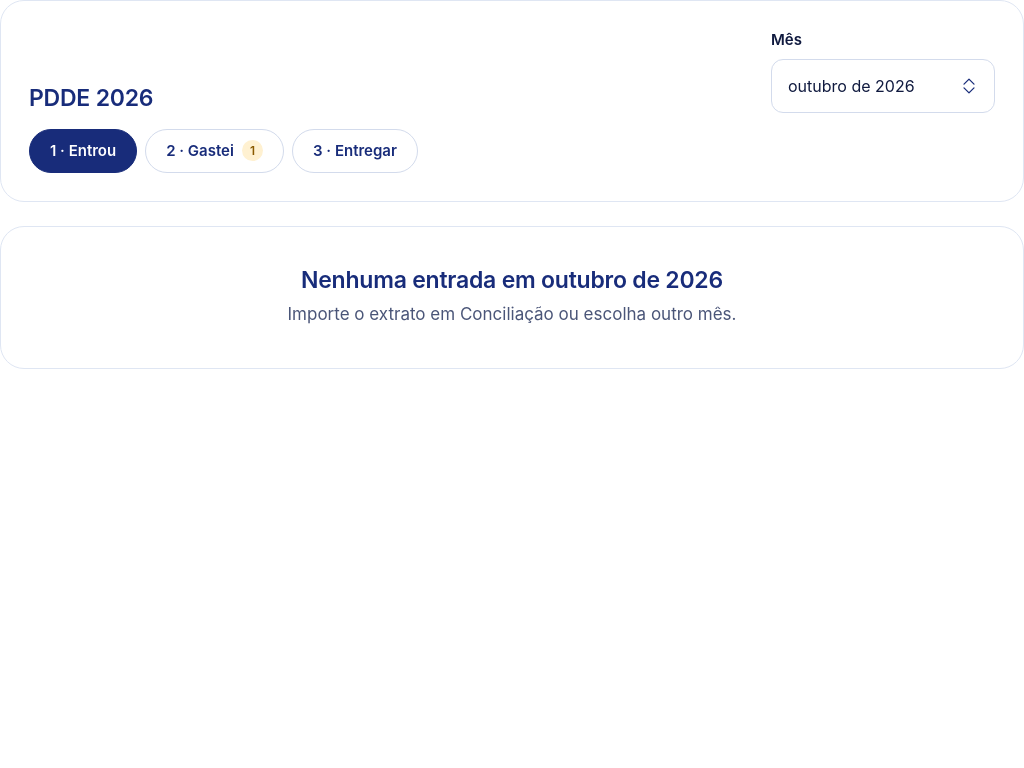
Test: PddeArea: a saida que paga uma despesa › sem natureza na categoria, nao confirma sozinho: o modal traz o item da despesa
This screenshot has width=1024, height=768.
Click the tab "2 · Gastei 1": (215, 151) [145,129,284,173]
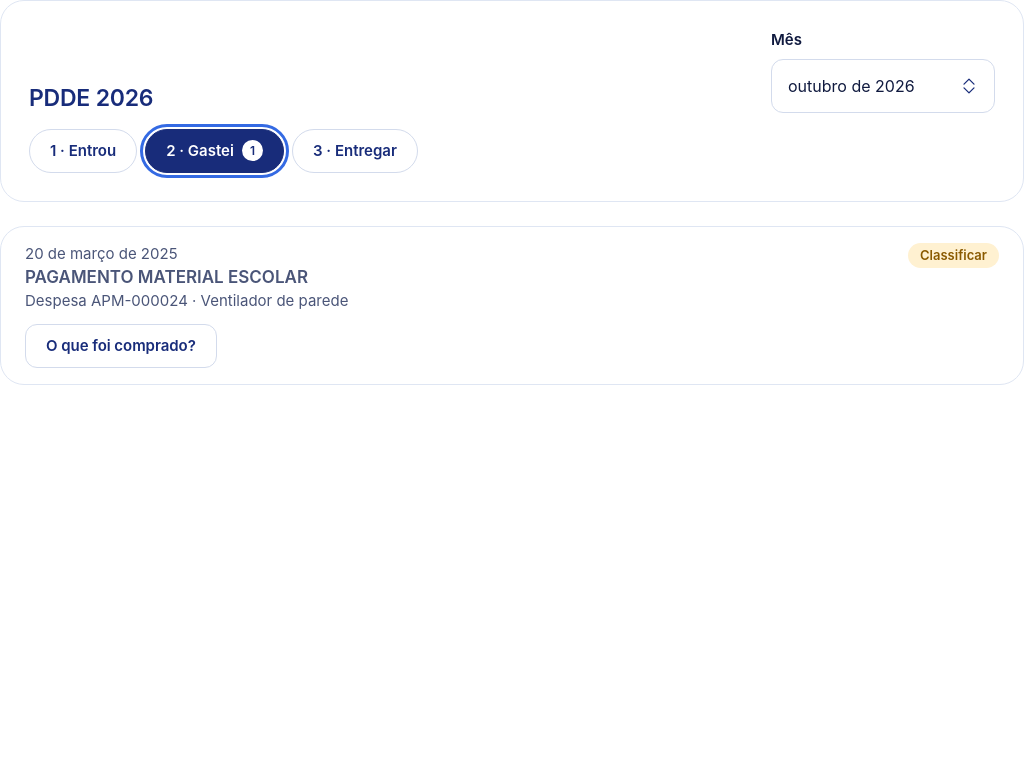
Click the button "O que foi comprado?": (121, 346) [25,324,217,368]
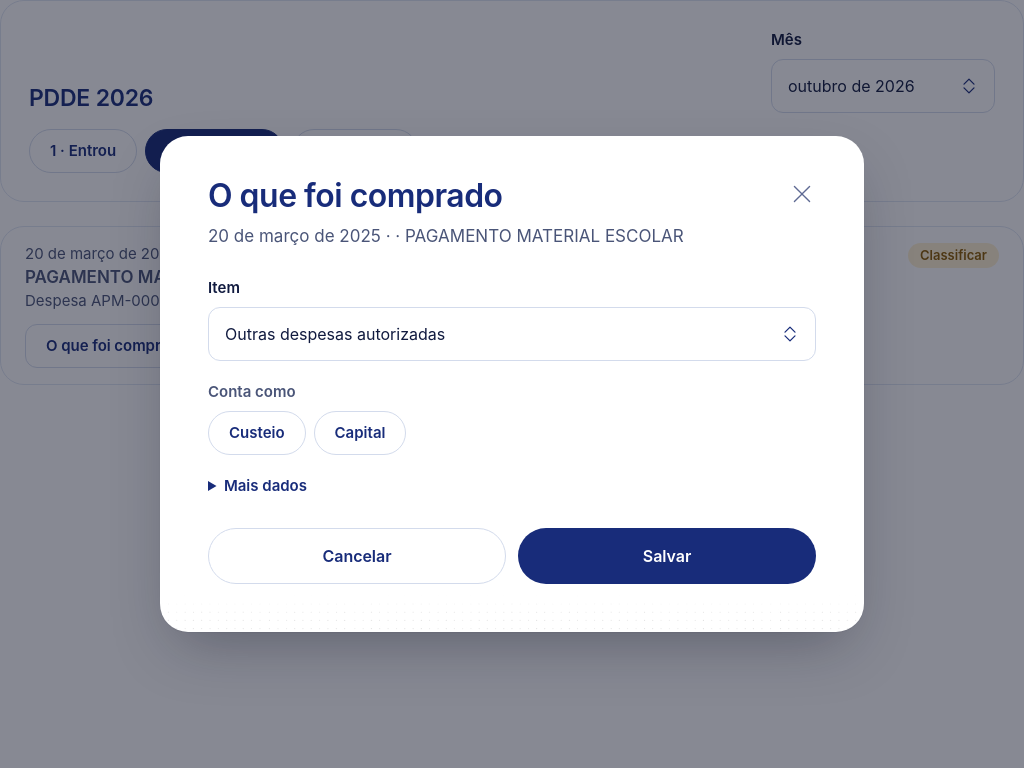
Expected: the dropdown labelled "Item" shows "Outras despesas autorizadas", [208,307,816,361]
